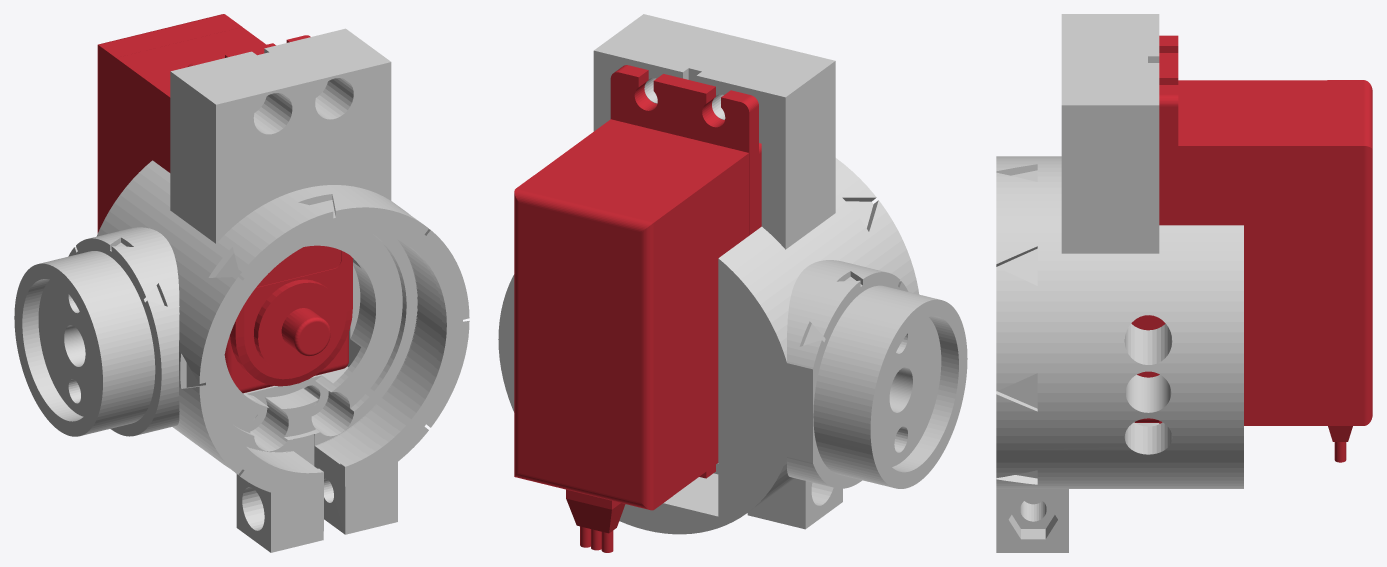
The model's file is hip_fr.dae.
The picture shows the model from 3 angles, left to right: view 1: azimuth 30°, elevation 25°; view 2: azimuth 150°, elevation 25°; view 3: azimuth 270°, elevation 25°; orthographic projection. The views are drawn at different scales.
Visible parts, largest first — view 1: hip1_005; view 2: hip1_005; view 3: hip1_005.
Boxes of the visible parts, left/top/right/bottom form: hip1_005: left=14, top=14, right=469, bottom=552; hip1_005: left=498, top=14, right=967, bottom=552; hip1_005: left=996, top=14, right=1372, bottom=552.
Bounding box in the file's own units: 0.0551 × 0.0496 × 0.0669.
